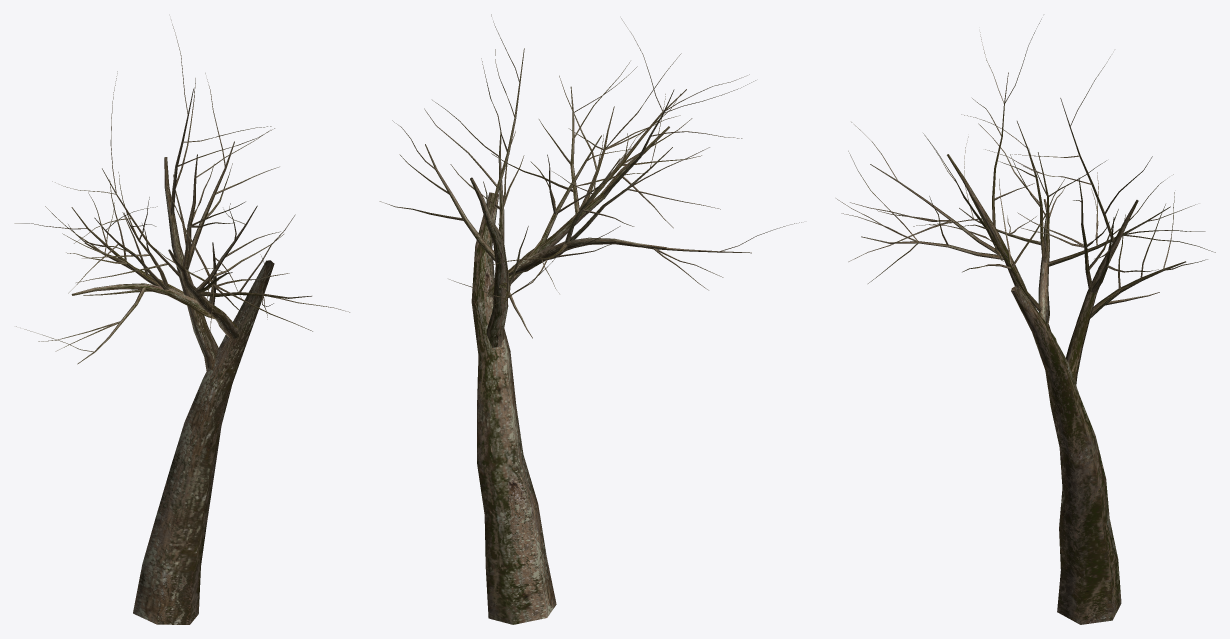
The model's file is dead_tree_a.glb.
3 views of the same model, side by side, from view 1: azimuth 30°, elevation 25°; view 2: azimuth 150°, elevation 25°; view 3: azimuth 270°, elevation 25° (orthographic). The views are drawn at different scales.
Visible parts, largest first — view 1: arbre; view 2: arbre; view 3: arbre.
Boxes of the visible parts, bbox=[...] form: arbre: bbox=[14, 20, 349, 624]; arbre: bbox=[379, 14, 801, 624]; arbre: bbox=[836, 19, 1215, 624].
Size of the model in its own units: 2.73 by 4.65 by 2.81.
Materials: 1 (1 with a texture image).
